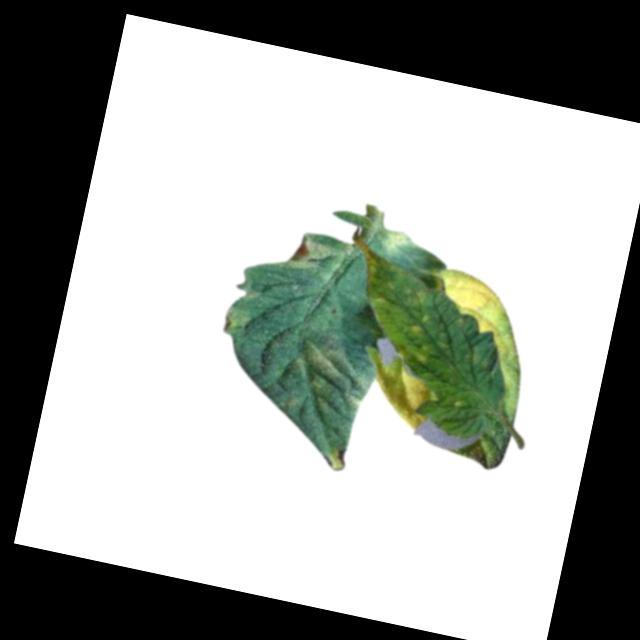Leaf_Mold: (350, 252, 437, 357), (426, 266, 524, 358), (369, 356, 436, 431), (291, 338, 345, 389), (287, 229, 337, 278), (219, 303, 253, 341), (379, 225, 410, 258)
